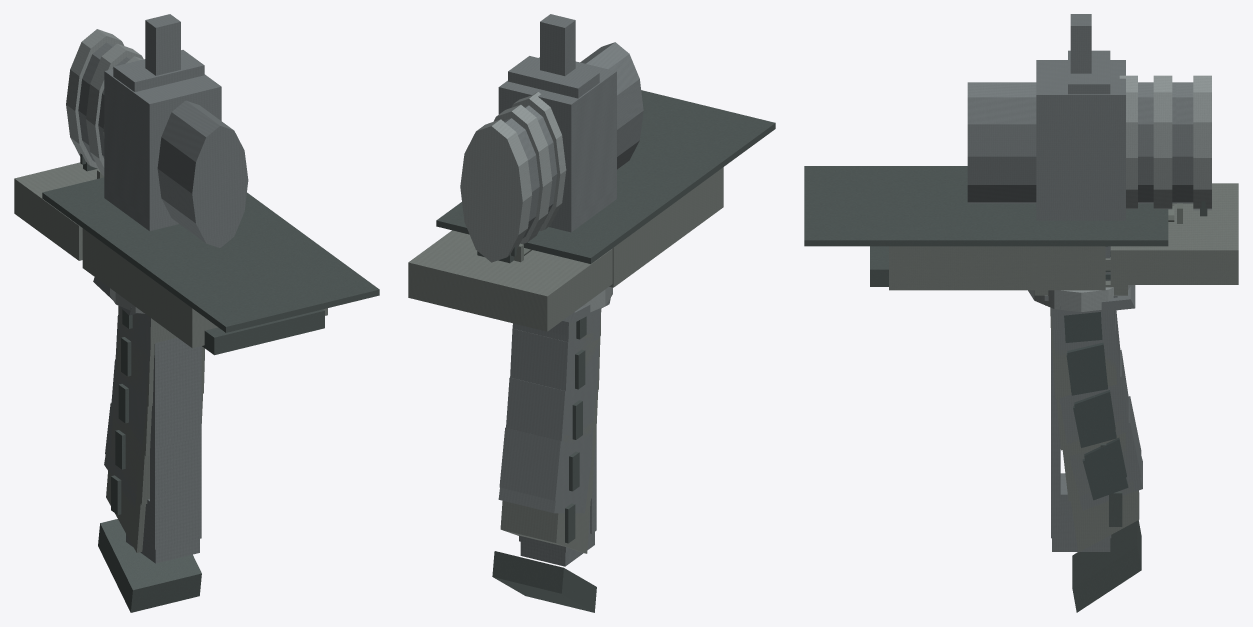
File: weapon_ak12.glb
The picture shows the model from 3 angles, left to right: view 1: azimuth 30°, elevation 25°; view 2: azimuth 150°, elevation 25°; view 3: azimuth 270°, elevation 25°; orthographic projection.
Visible parts, largest first — view 1: weapon_ak12__L1_stock__ak12_cheek, weapon_ak12__L0_stock__ak12_cheek, weapon_ak12__L0_optic__prism2, weapon_ak12__L0_optic__scope6, weapon_ak12__L0_handguard_grip__fore_bail, weapon_ak12__L0_magazine__ak545_window_30, weapon_ak12__L1_magazine__ak545_window_30, weapon_ak12__L1_optic__scope6, weapon_ak12__L1_optic__prism2, weapon_ak12__L1_handguard_grip__fore_bail, weapon_ak12__L0_magazine__ak545_30, weapon_ak12__L1_optic__dot_tube (+8 smaller); view 2: weapon_ak12__L0_stock__ak12_cheek, weapon_ak12__L1_stock__ak12_cheek, weapon_ak12__L0_optic__scope6, weapon_ak12__L0_optic__prism2, weapon_ak12__L0_magazine__ak545_30, weapon_ak12__L1_magazine__ak545_30, weapon_ak12__L1_optic__scope6, weapon_ak12__L1_magazine__ak545_window_30, weapon_ak12__L1_optic__prism2, weapon_ak12__L0_magazine__ak545_window_30, weapon_ak12__L0_optic__dot_tube, weapon_ak12__L1_optic__dot_tube (+10 smaller); view 3: weapon_ak12__L1_stock__ak12_cheek, weapon_ak12__L0_stock__ak12_cheek, weapon_ak12__L0_optic__prism2, weapon_ak12__L0_optic__scope6, weapon_ak12__L0_magazine__ak545_window_30, weapon_ak12__L0_magazine__ak545_30, weapon_ak12__L1_optic__prism2, weapon_ak12__L0_optic__scope4, weapon_ak12__L1_optic__scope6, weapon_ak12__L1_magazine__ak545_30, weapon_ak12__L1_magazine__ak545_window_30, weapon_ak12__L0_magazine__ak545_45 (+11 smaller).
Boxes of the visible parts, x1=… form: weapon_ak12__L1_stock__ak12_cheek: x1=14, y1=162, x2=379, y2=355; weapon_ak12__L0_stock__ak12_cheek: x1=15, y1=163, x2=377, y2=354; weapon_ak12__L0_optic__prism2: x1=88, y1=44, x2=220, y2=230; weapon_ak12__L0_optic__scope6: x1=66, y1=29, x2=247, y2=245; weapon_ak12__L0_handguard_grip__fore_bail: x1=126, y1=337, x2=200, y2=559; weapon_ak12__L0_magazine__ak545_window_30: x1=98, y1=307, x2=203, y2=611; weapon_ak12__L1_magazine__ak545_window_30: x1=98, y1=306, x2=204, y2=612; weapon_ak12__L1_optic__scope6: x1=66, y1=29, x2=248, y2=247; weapon_ak12__L1_optic__prism2: x1=86, y1=43, x2=221, y2=231; weapon_ak12__L1_handguard_grip__fore_bail: x1=126, y1=339, x2=201, y2=563; weapon_ak12__L0_magazine__ak545_30: x1=105, y1=306, x2=147, y2=503; weapon_ak12__L1_optic__dot_tube: x1=103, y1=14, x2=180, y2=138; weapon_ak12__L0_stock__ak12_cheek: x1=410, y1=91, x2=774, y2=330; weapon_ak12__L1_stock__ak12_cheek: x1=408, y1=90, x2=775, y2=331; weapon_ak12__L0_optic__scope6: x1=461, y1=42, x2=641, y2=260; weapon_ak12__L0_optic__prism2: x1=495, y1=62, x2=616, y2=242; weapon_ak12__L0_magazine__ak545_30: x1=502, y1=310, x2=598, y2=505; weapon_ak12__L1_magazine__ak545_30: x1=499, y1=322, x2=599, y2=507; weapon_ak12__L1_optic__scope6: x1=460, y1=42, x2=643, y2=262; weapon_ak12__L1_magazine__ak545_window_30: x1=492, y1=309, x2=601, y2=612; weapon_ak12__L1_optic__prism2: x1=493, y1=57, x2=616, y2=243; weapon_ak12__L0_magazine__ak545_window_30: x1=493, y1=317, x2=600, y2=610; weapon_ak12__L0_optic__dot_tube: x1=514, y1=14, x2=575, y2=229; weapon_ak12__L1_optic__dot_tube: x1=511, y1=14, x2=575, y2=230; weapon_ak12__L1_stock__ak12_cheek: x1=804, y1=166, x2=1238, y2=290; weapon_ak12__L0_stock__ak12_cheek: x1=806, y1=167, x2=1236, y2=289; weapon_ak12__L0_optic__prism2: x1=1029, y1=60, x2=1171, y2=220; weapon_ak12__L0_optic__scope6: x1=968, y1=75, x2=1210, y2=210; weapon_ak12__L0_magazine__ak545_window_30: x1=1051, y1=308, x2=1141, y2=610; weapon_ak12__L0_magazine__ak545_30: x1=1051, y1=308, x2=1140, y2=499; weapon_ak12__L1_optic__prism2: x1=1028, y1=60, x2=1172, y2=220; weapon_ak12__L0_optic__scope4: x1=1006, y1=82, x2=1153, y2=203; weapon_ak12__L1_optic__scope6: x1=967, y1=75, x2=1211, y2=210; weapon_ak12__L1_magazine__ak545_30: x1=1050, y1=308, x2=1141, y2=505; weapon_ak12__L1_magazine__ak545_window_30: x1=1050, y1=307, x2=1141, y2=612; weapon_ak12__L0_magazine__ak545_45: x1=1052, y1=310, x2=1141, y2=509.
Size of the model in its own units: 2.78 by 10.04 by 6.86.
3 materials, 3 textured.
